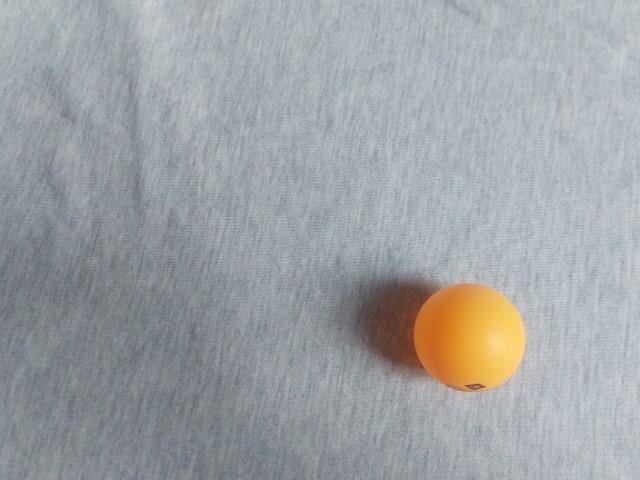oball: (106, 81, 234, 204)
